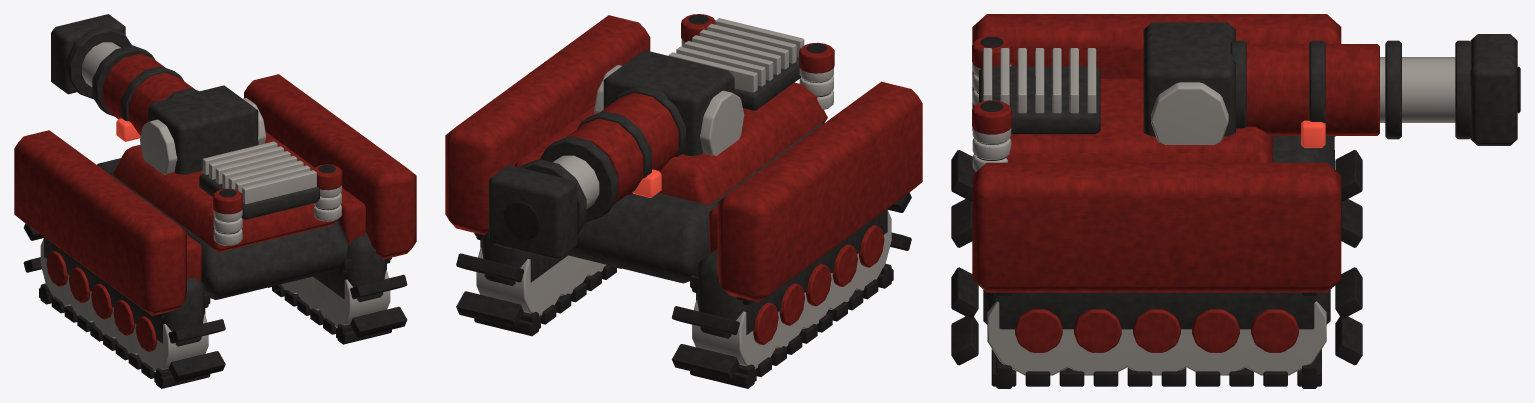
The model's file is kharn_engin_de_siege.gltf.
3 views of the same model, side by side, from view 1: azimuth 30°, elevation 25°; view 2: azimuth 150°, elevation 25°; view 3: azimuth 270°, elevation 25° (orthographic). The views are drawn at different scales.
Parts seen in each view (by area): view 1: Root.020_Geometry, Deploy_-1_Geometry, Deploy_1_Geometry, GunRecoil.005_Geometry, GunPitch.008_Geometry, Track_-0.68_0.002_Geometry, Track_0.68_0.002_Geometry, Wheel_-0.67628_0.002_Geometry, Wheel_0.67628_0.002_Geometry, Wheel_-0.67628_4.002_Geometry, Wheel_-0.67628_2.002_Geometry, Wheel_-0.67628_1.002_Geometry (+2 smaller); view 2: Root.020_Geometry, Deploy_-1_Geometry, GunRecoil.005_Geometry, Deploy_1_Geometry, GunPitch.008_Geometry, Track_-0.68_0.002_Geometry, Track_0.68_0.002_Geometry, Wheel_-0.67628_4.002_Geometry, Wheel_0.67628_4.002_Geometry, Wheel_-0.67628_0.002_Geometry, Wheel_-0.67628_1.002_Geometry, Wheel_-0.67628_3.002_Geometry (+2 smaller); view 3: Deploy_1_Geometry, Root.020_Geometry, GunRecoil.005_Geometry, Deploy_-1_Geometry, GunPitch.008_Geometry, Track_0.68_0.002_Geometry, Wheel_0.67628_0.002_Geometry, Wheel_0.67628_4.002_Geometry, Track_-0.68_0.002_Geometry, Wheel_0.67628_1.002_Geometry, Wheel_0.67628_2.002_Geometry, Wheel_0.67628_3.002_Geometry.
Boxes of the visible parts, box(x1,y1,x2,y2) form: Root.020_Geometry: box(44, 118, 386, 346); Deploy_-1_Geometry: box(14, 130, 186, 315); Deploy_1_Geometry: box(244, 74, 416, 259); GunRecoil.005_Geometry: box(51, 14, 198, 135); GunPitch.008_Geometry: box(140, 85, 266, 174); Track_-0.68_0.002_Geometry: box(23, 223, 225, 388); Track_0.68_0.002_Geometry: box(268, 257, 407, 344); Wheel_-0.67628_0.002_Geometry: box(131, 314, 208, 371); Wheel_0.67628_0.002_Geometry: box(311, 270, 390, 327); Wheel_-0.67628_4.002_Geometry: box(40, 238, 74, 306); Wheel_-0.67628_2.002_Geometry: box(86, 283, 118, 338); Wheel_-0.67628_1.002_Geometry: box(109, 300, 138, 354); Root.020_Geometry: box(480, 14, 887, 338); Deploy_-1_Geometry: box(717, 81, 922, 302); GunRecoil.005_Geometry: box(488, 85, 685, 260); Deploy_1_Geometry: box(445, 15, 650, 235); GunPitch.008_Geometry: box(594, 50, 744, 155); Track_-0.68_0.002_Geometry: box(672, 192, 911, 388); Track_0.68_0.002_Geometry: box(456, 233, 621, 336); Wheel_-0.67628_4.002_Geometry: box(692, 300, 778, 368); Wheel_0.67628_4.002_Geometry: box(476, 247, 570, 316); Wheel_-0.67628_0.002_Geometry: box(852, 210, 891, 290); Wheel_-0.67628_1.002_Geometry: box(825, 244, 863, 309); Wheel_-0.67628_3.002_Geometry: box(772, 283, 810, 348); Deploy_1_Geometry: box(972, 162, 1341, 292); Root.020_Geometry: box(972, 36, 1334, 329); GunRecoil.005_Geometry: box(1230, 34, 1520, 145); Deploy_-1_Geometry: box(972, 14, 1341, 136); GunPitch.008_Geometry: box(1143, 22, 1235, 144); Track_0.68_0.002_Geometry: box(951, 267, 1362, 388); Wheel_0.67628_0.002_Geometry: box(987, 301, 1083, 375); Wheel_0.67628_4.002_Geometry: box(1230, 301, 1326, 375); Track_-0.68_0.002_Geometry: box(951, 150, 1362, 247); Wheel_0.67628_1.002_Geometry: box(1054, 309, 1142, 375); Wheel_0.67628_2.002_Geometry: box(1115, 309, 1201, 375); Wheel_0.67628_3.002_Geometry: box(1172, 309, 1260, 375).
Bounding box in the file's own units: 2.04 × 1.45 × 2.77.
Materials: 5 (3 with a texture image).
